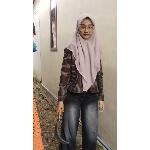Celurit: (46, 104, 77, 150)
